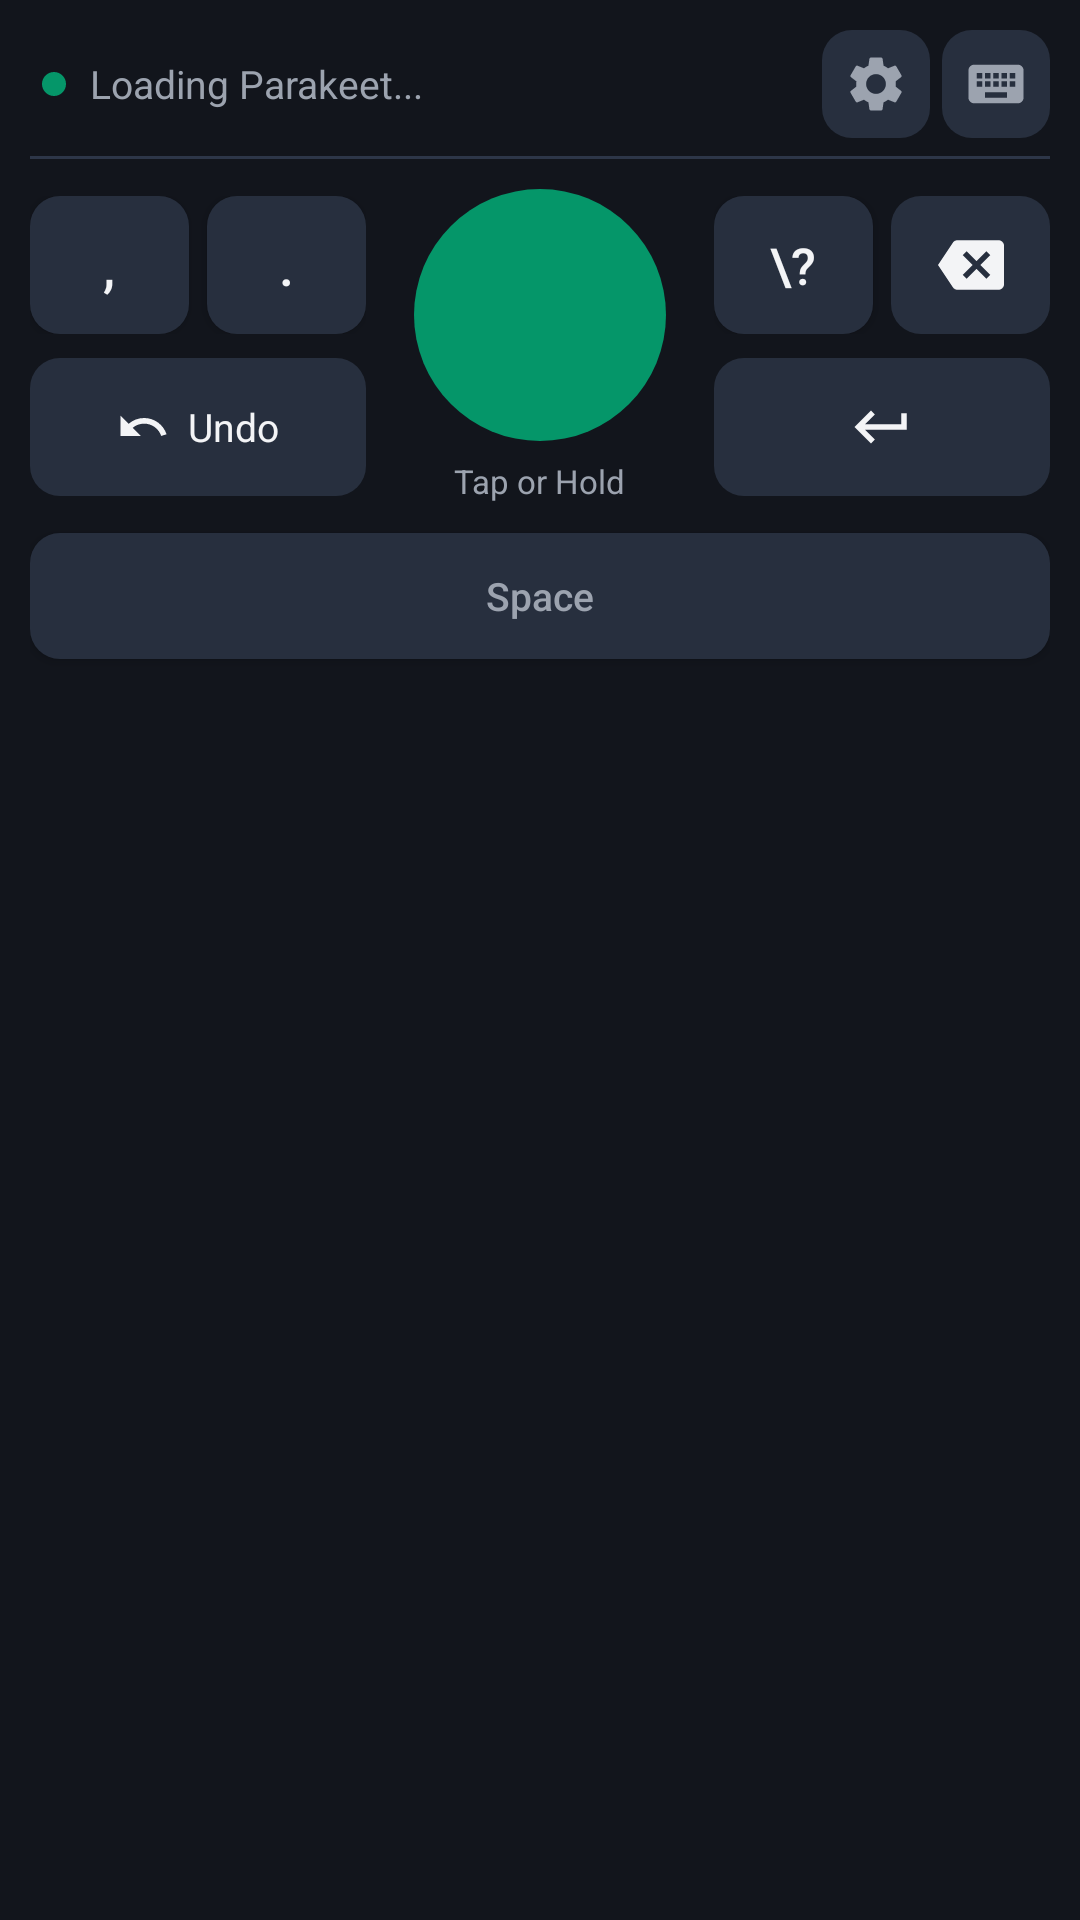

Icon click points for this 1080x1920 phone screenshot, format [x,y]:
Backspace: [970,265]
Enter: [882,427]
Settings: [876,84]
Switch keyboard: [996,84]
